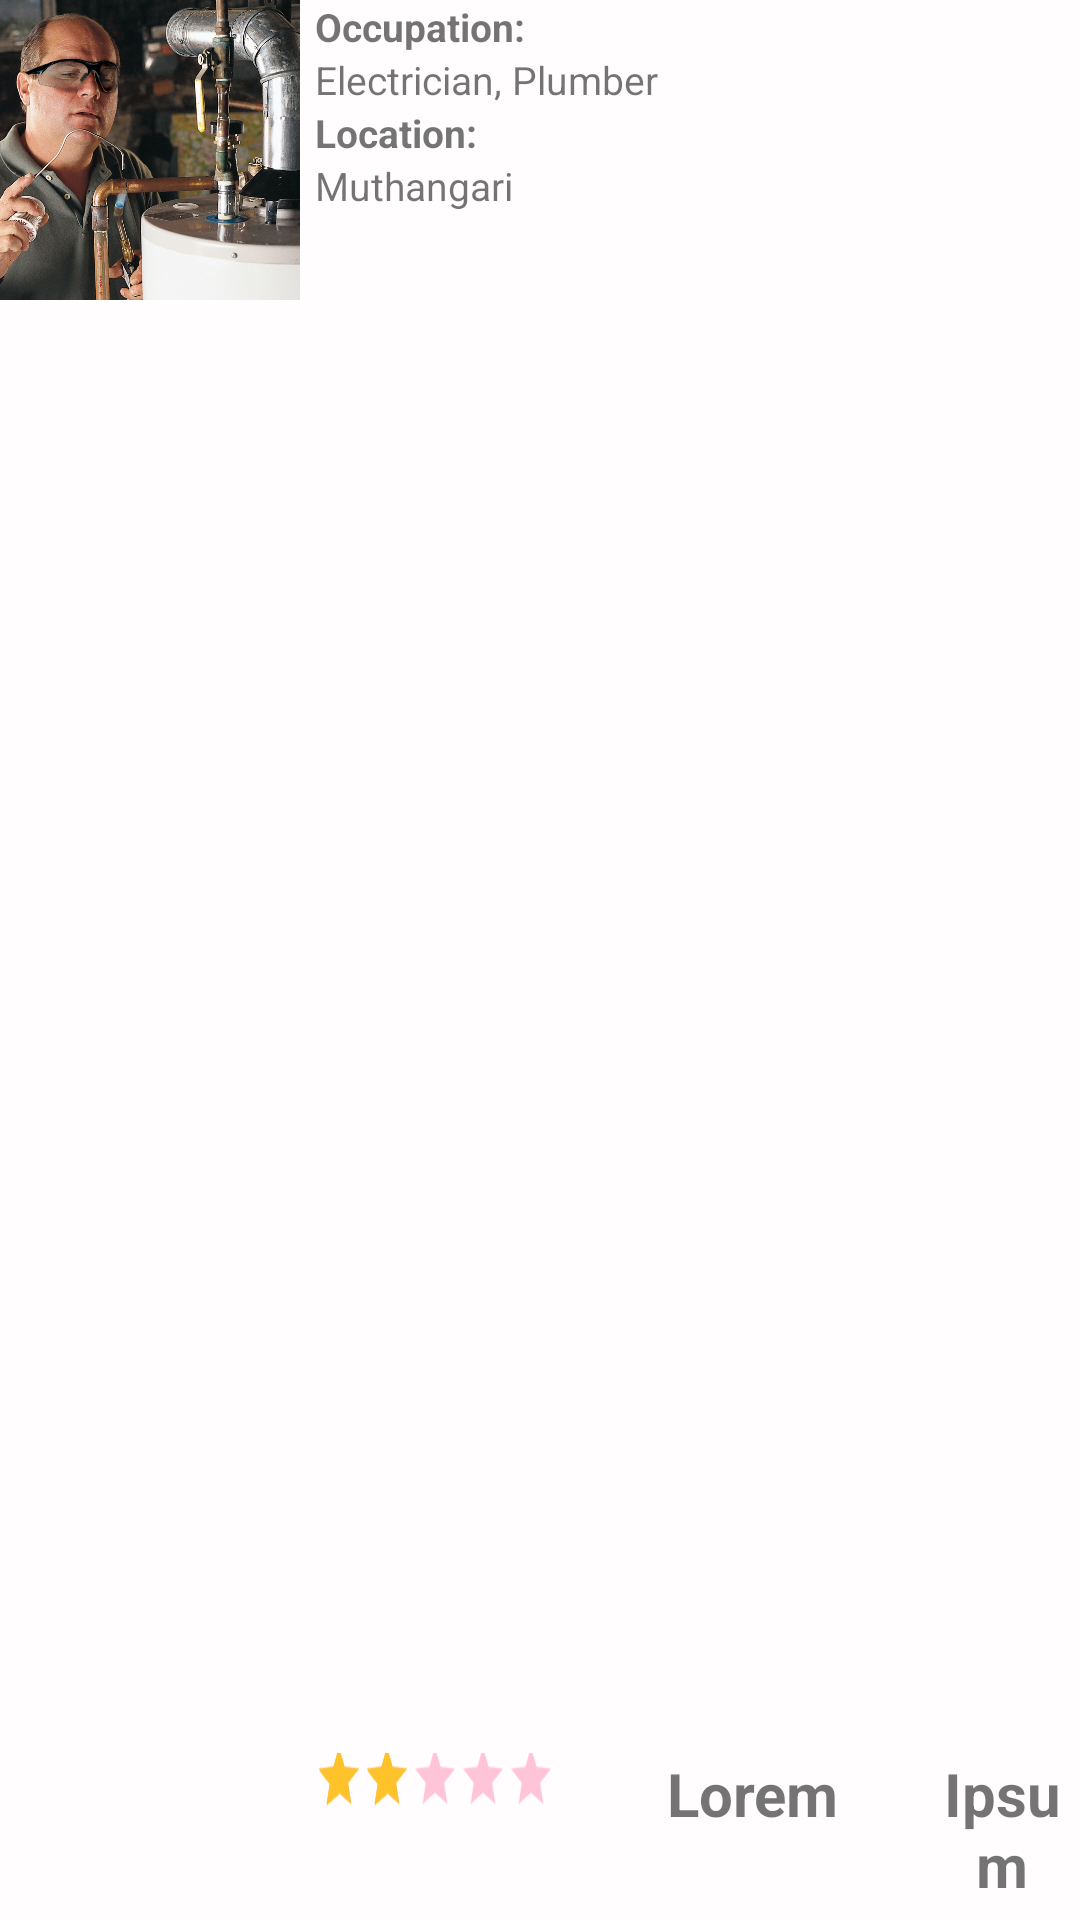

Point at icon controls on the screen. Image size 1080w x 1920h, points as point (x, y).
provider image description: point (150, 150)
